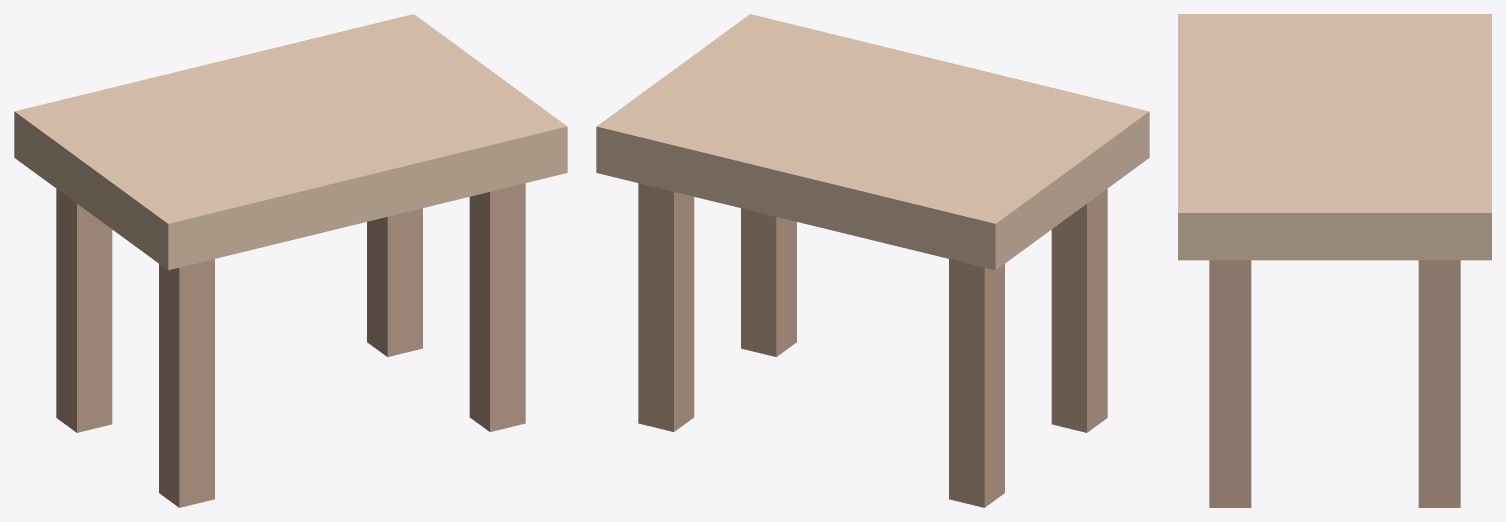
The model's file is desk.glb.
3 renders of one model, left to right at view 1: azimuth 30°, elevation 25°; view 2: azimuth 150°, elevation 25°; view 3: azimuth 270°, elevation 25°, orthographic. The views are drawn at different scales.
Parts seen in each view (by area): view 1: top, leg3, leg2, leg0, leg1; view 2: top, leg1, leg0, leg2, leg3; view 3: top, leg1, leg3.
Part boxes in pixels (x1,y1,x2,y2): top: (14, 14, 567, 270); leg3: (469, 183, 525, 431); leg2: (159, 259, 214, 507); leg0: (56, 189, 112, 432); leg1: (367, 208, 422, 356); top: (596, 14, 1149, 270); leg1: (638, 183, 694, 431); leg0: (949, 259, 1004, 507); leg2: (1051, 189, 1107, 432); leg3: (741, 208, 796, 356); top: (1178, 14, 1491, 260); leg1: (1418, 260, 1460, 507); leg3: (1209, 260, 1251, 507).
Size of the model in its own units: 0.9 by 0.65 by 0.6.
